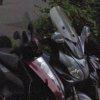Motorcycle: (5, 21, 97, 100)
